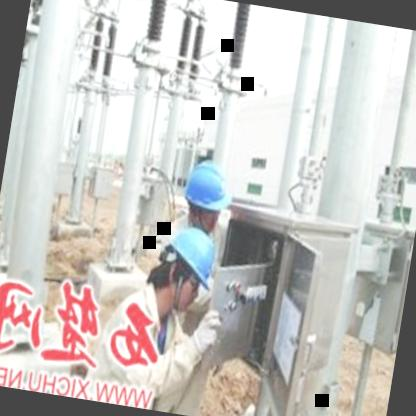helmet: (150, 220, 222, 313), (176, 155, 235, 236)
